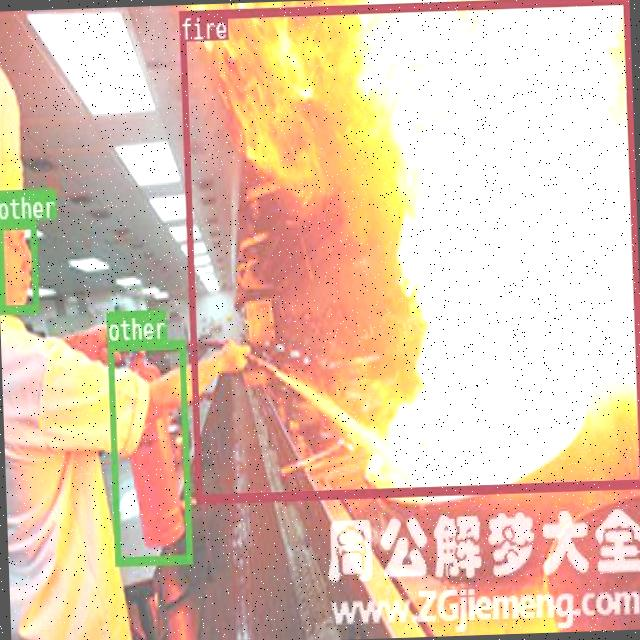fire: (177, 0, 640, 500)
